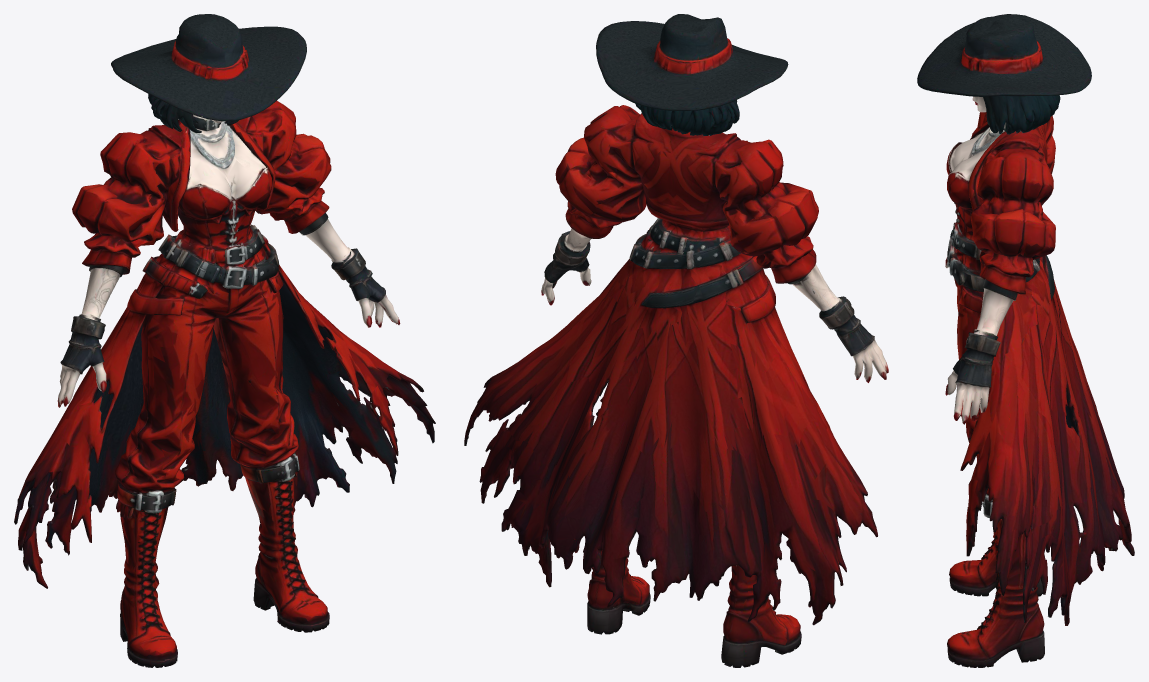
File: Lilith.glb
The picture shows the model from 3 angles, left to right: view 1: azimuth 30°, elevation 25°; view 2: azimuth 150°, elevation 25°; view 3: azimuth 270°, elevation 25°; orthographic projection. The views are drawn at different scales.
Parts seen in each view (by area): view 1: Mesh_0; view 2: Mesh_0; view 3: Mesh_0.
Boxes of the visible parts, x1=… form: Mesh_0: x1=14, y1=14, x2=435, y2=667; Mesh_0: x1=464, y1=14, x2=888, y2=667; Mesh_0: x1=917, y1=14, x2=1134, y2=667.
Bounding box in the file's own units: 1.36 × 1.9 × 0.6296.
Materials: 1 (1 with a texture image).
